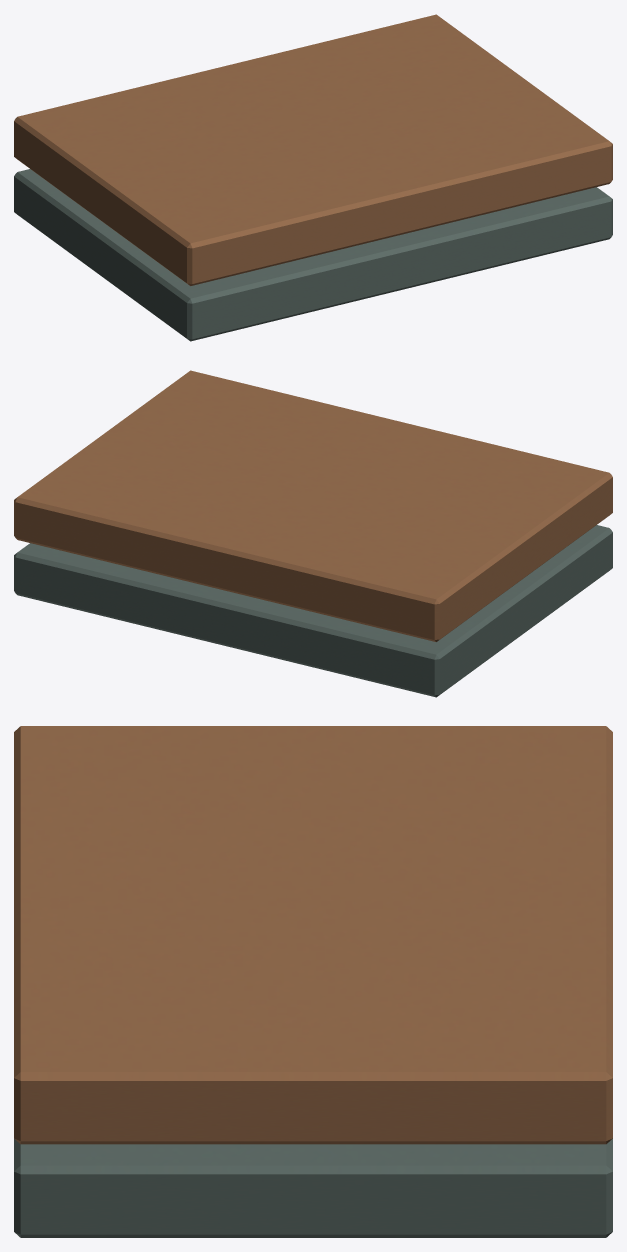
File: book_stack.glb
3 renders of one model, top to bottom at view 1: azimuth 30°, elevation 25°; view 2: azimuth 150°, elevation 25°; view 3: azimuth 270°, elevation 25°, orthographic. The views are drawn at different scales.
Visible parts, largest first — view 1: home_book_stack; view 2: home_book_stack; view 3: home_book_stack.
Part boxes in pixels (box(x1,y1,x2,y2)): home_book_stack: box(14, 14, 612, 341); home_book_stack: box(14, 370, 612, 697); home_book_stack: box(14, 726, 612, 1237).
Bounding box in the file's own units: 0.25 × 0.055 × 0.18.
Materials: 1 (1 with a texture image).
